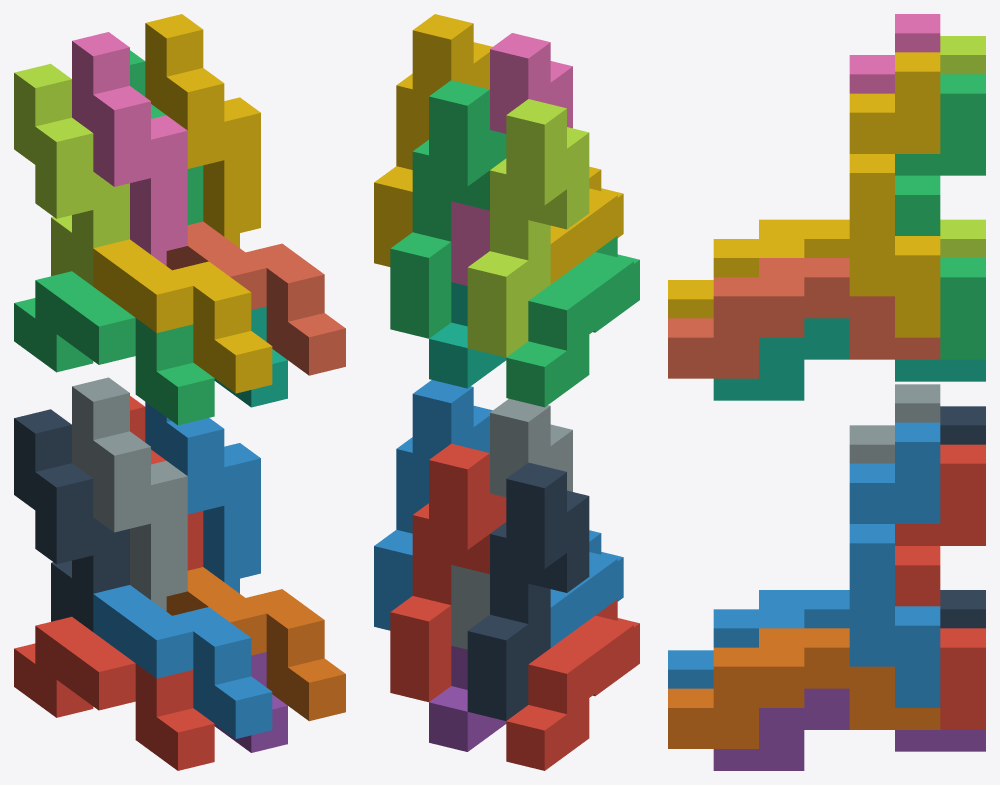
Rendered from tiling.obj.
3 views of the same model, side by side, from view 1: azimuth 30°, elevation 25°; view 2: azimuth 150°, elevation 25°; view 3: azimuth 270°, elevation 25° (orthographic). The views are drawn at different scales.
Visible parts, largest first — view 1: copy_2_domain_4, copy_2_domain_2, copy_1_domain_1, copy_1_domain_3, copy_2_domain_8, copy_2_domain_3, copy_2_domain_1, copy_1_domain_4, copy_1_domain_2, copy_2_domain_6, copy_1_domain_6, copy_1_domain_8 (+4 smaller); view 2: copy_2_domain_3, copy_2_domain_1, copy_2_domain_7, copy_2_domain_5, copy_1_domain_3, copy_1_domain_1, copy_2_domain_8, copy_2_domain_6, copy_2_domain_4, copy_2_domain_2, copy_1_domain_2, copy_1_domain_4 (+2 smaller); view 3: copy_2_domain_6, copy_2_domain_8, copy_1_domain_8, copy_1_domain_6, copy_2_domain_5, copy_2_domain_7, copy_1_domain_7, copy_1_domain_5, copy_1_domain_2, copy_1_domain_4, copy_2_domain_1, copy_2_domain_2 (+2 smaller).
Part boxes in pixels (left/top/right/bottom): copy_2_domain_4: left=72, top=32, right=187, bottom=265; copy_2_domain_2: left=72, top=377, right=187, bottom=611; copy_1_domain_1: left=14, top=616, right=214, bottom=770; copy_1_domain_3: left=14, top=271, right=214, bottom=425; copy_2_domain_8: left=145, top=14, right=260, bottom=247; copy_2_domain_3: left=14, top=63, right=129, bottom=286; copy_2_domain_1: left=14, top=409, right=129, bottom=631; copy_1_domain_4: left=93, top=239, right=272, bottom=393; copy_1_domain_2: left=93, top=585, right=272, bottom=738; copy_2_domain_6: left=145, top=402, right=260, bottom=593; copy_1_domain_6: left=166, top=567, right=345, bottom=721; copy_1_domain_8: left=166, top=221, right=345, bottom=375; copy_2_domain_3: left=467, top=99, right=589, bottom=357; copy_2_domain_1: left=467, top=462, right=589, bottom=720; copy_2_domain_7: left=390, top=80, right=506, bottom=338; copy_2_domain_5: left=390, top=443, right=506, bottom=702; copy_1_domain_3: left=506, top=236, right=639, bottom=407; copy_1_domain_1: left=506, top=599, right=639, bottom=770; copy_2_domain_8: left=374, top=14, right=492, bottom=266; copy_2_domain_6: left=374, top=380, right=492, bottom=630; copy_2_domain_4: left=451, top=33, right=572, bottom=285; copy_2_domain_2: left=451, top=399, right=572, bottom=649; copy_1_domain_2: left=550, top=530, right=623, bottom=647; copy_1_domain_4: left=550, top=166, right=623, bottom=284; copy_2_domain_6: left=849, top=422, right=940, bottom=707; copy_2_domain_8: left=849, top=52, right=940, bottom=337; copy_1_domain_8: left=668, top=258, right=940, bottom=378; copy_1_domain_6: left=668, top=628, right=940, bottom=748; copy_2_domain_5: left=895, top=444, right=985, bottom=729; copy_2_domain_7: left=895, top=74, right=985, bottom=359; copy_1_domain_7: left=713, top=318, right=985, bottom=400; copy_1_domain_5: left=713, top=688, right=985, bottom=770; copy_1_domain_2: left=668, top=590, right=849, bottom=688; copy_1_domain_4: left=668, top=219, right=849, bottom=318; copy_2_domain_1: left=940, top=406, right=985, bottom=628; copy_2_domain_2: left=849, top=384, right=940, bottom=463.
Bounding box in the file's own units: 5 × 17 × 7.
